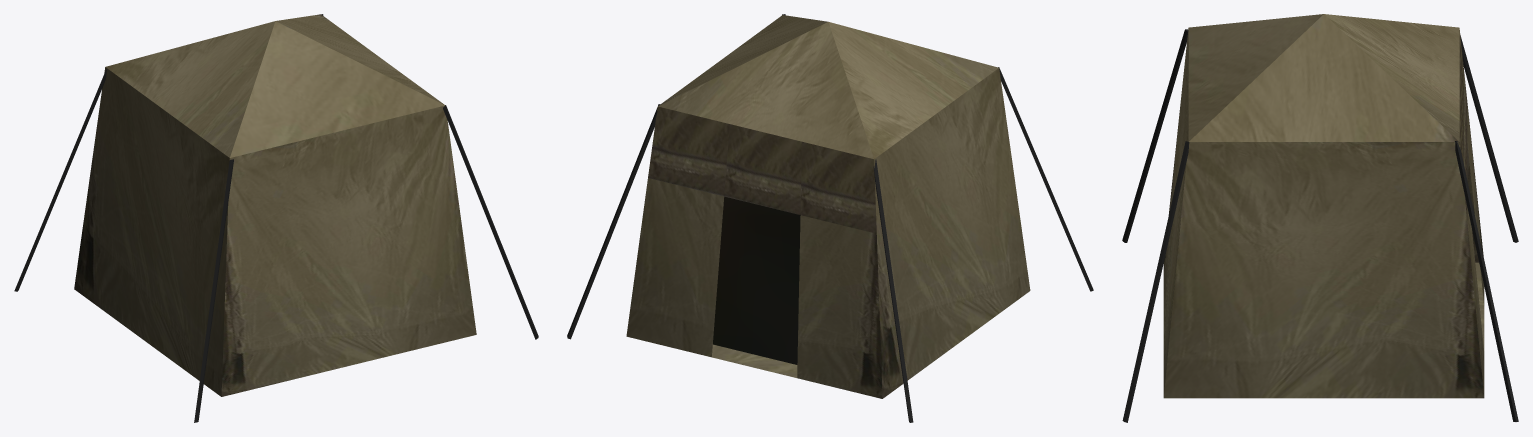
Rendered from Miltary Tent 2.fbx.
The picture shows the model from 3 angles, left to right: view 1: azimuth 30°, elevation 25°; view 2: azimuth 150°, elevation 25°; view 3: azimuth 270°, elevation 25°; orthographic projection. The views are drawn at different scales.
Parts seen in each view (by area): view 1: Tent 2; view 2: Tent 2; view 3: Tent 2.
Boxes of the visible parts, x1,y1,x2,y2 form: Tent 2: (14, 14, 538, 422); Tent 2: (567, 14, 1093, 422); Tent 2: (1122, 14, 1518, 422).
Size of the model in its own units: 4.82 by 4.41 by 3.92.
2 materials, 1 textured.
